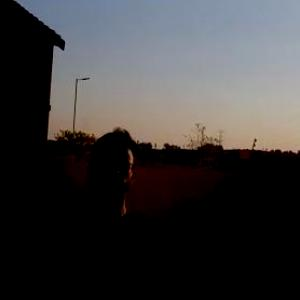follow: (32, 128, 170, 299)
